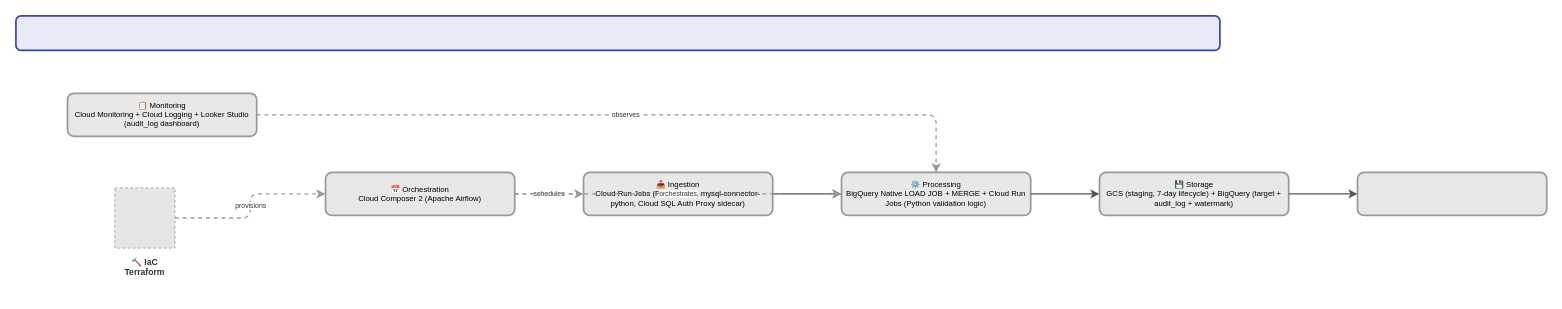
This 1562x309 diagram has some shape labels left out. Grey dashed boxes stand in for pictures. Here are the shapes that lost their labels. From the top down, the box of each, then its label:
(15, 15, 1220, 51): Data Pipeline Architecture
(1356, 171, 1547, 216): 📊 Consumption Consumption
